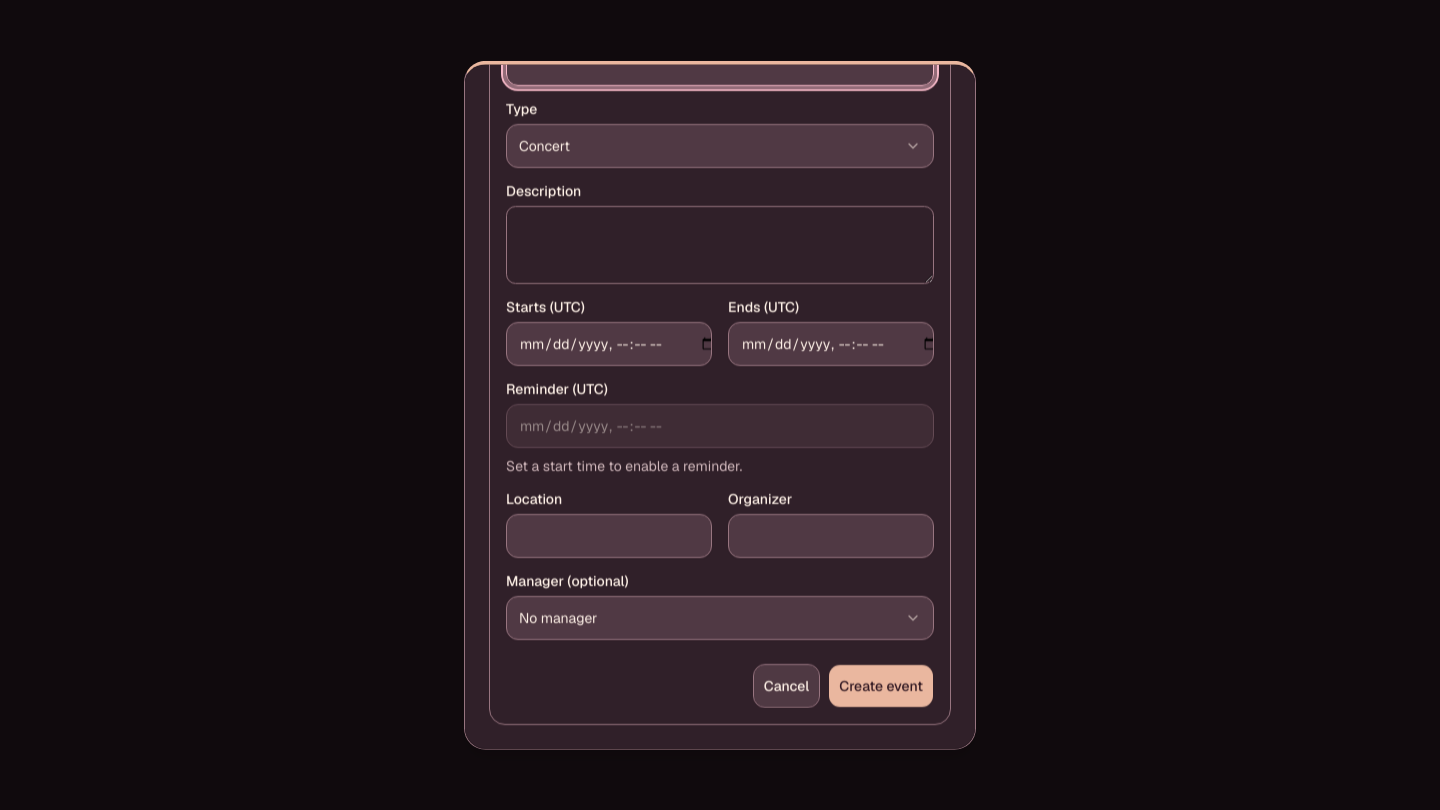
Test: CreateEventDialog › blocks submit and shows a field error when the name is blank
This screenshot has width=1440, height=810.
(page scrolled)
Click the button "Create event".
click(881, 685)  # box 828,663 -> 934,707
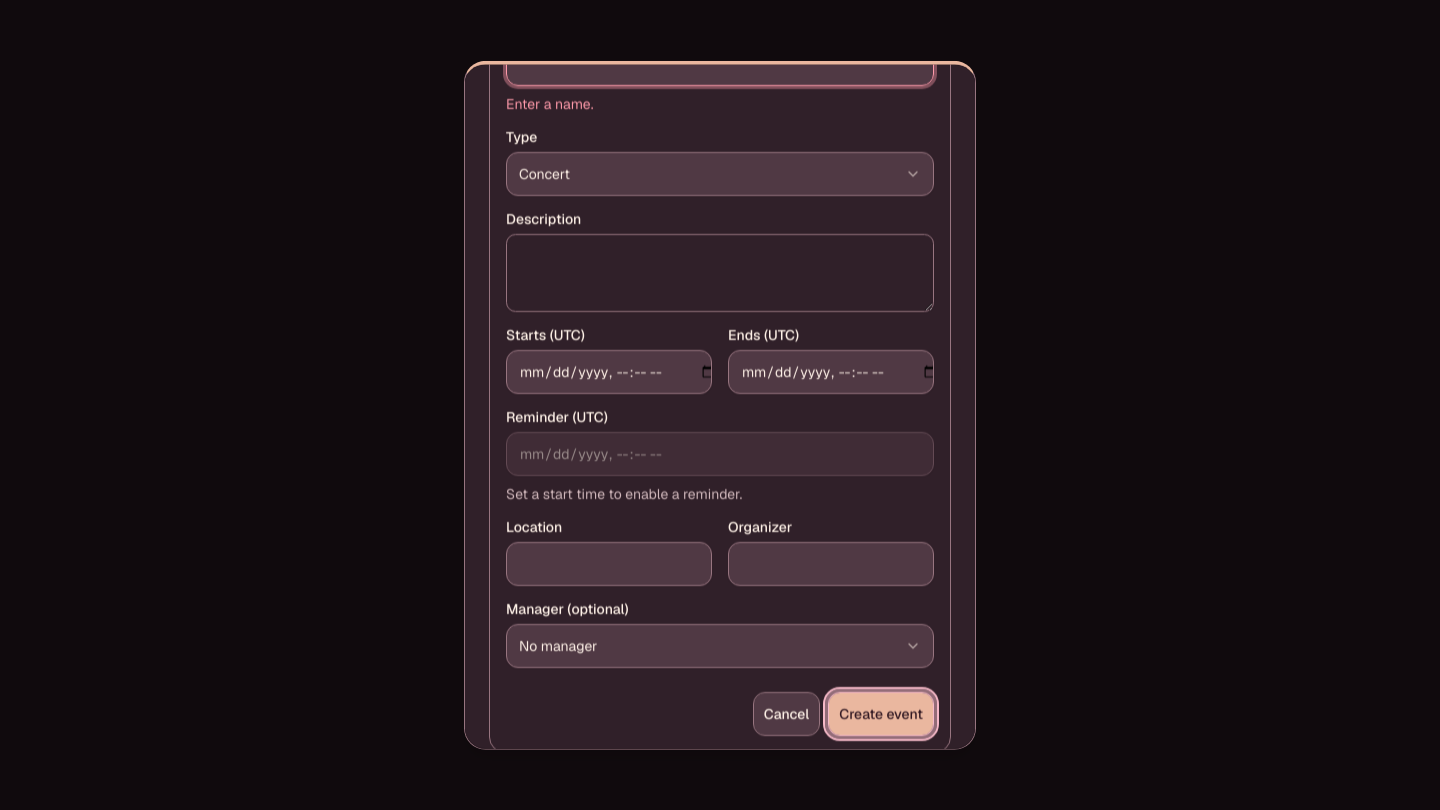
Now the text "Enter a name." is shown, box 506,94 -> 594,112
